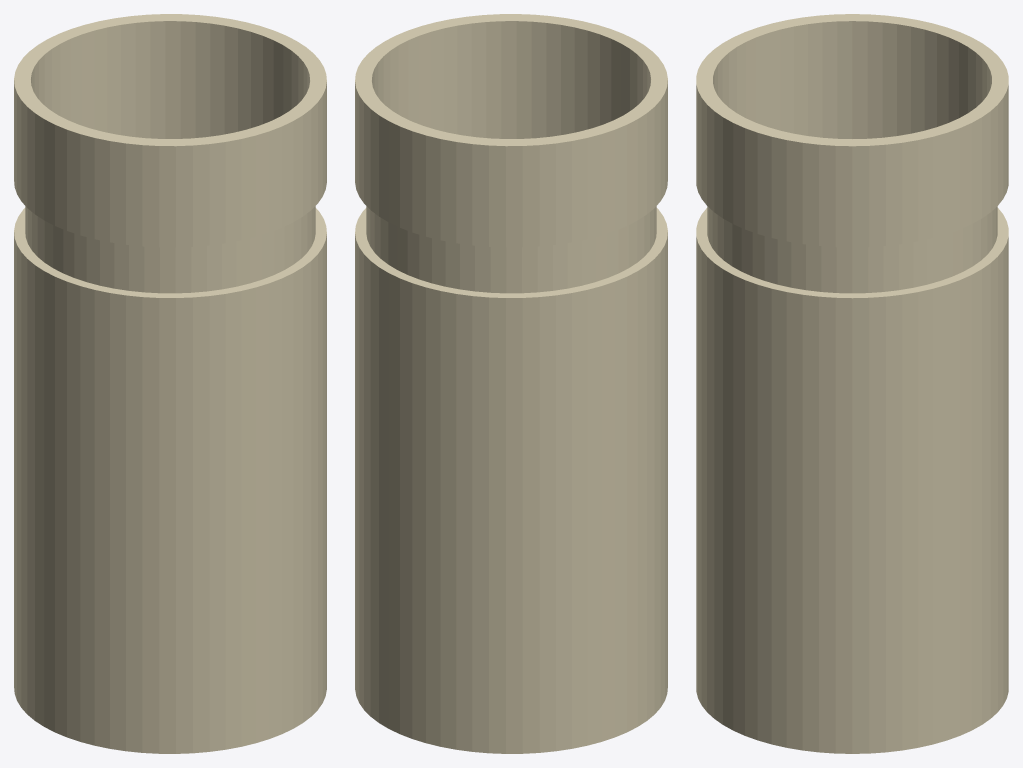
Rendered from fuel-test-core.glb.
The picture shows the model from 3 angles, left to right: view 1: azimuth 30°, elevation 25°; view 2: azimuth 150°, elevation 25°; view 3: azimuth 270°, elevation 25°; orthographic projection.
Visible parts, largest first — view 1: world; view 2: world; view 3: world.
Boxes of the visible parts, x1,y1,x2,y2 form: world: (14,14,326,753); world: (355,14,667,753); world: (696,14,1008,753).
Size of the model in its own units: 0.0056 by 0.012 by 0.00559.
